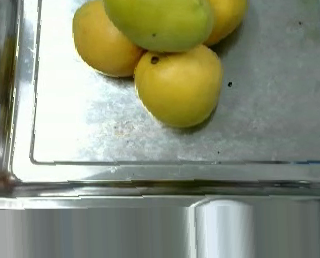Mango: (134, 42, 221, 126), (72, 0, 148, 75), (103, 0, 212, 51), (193, 1, 246, 45)
